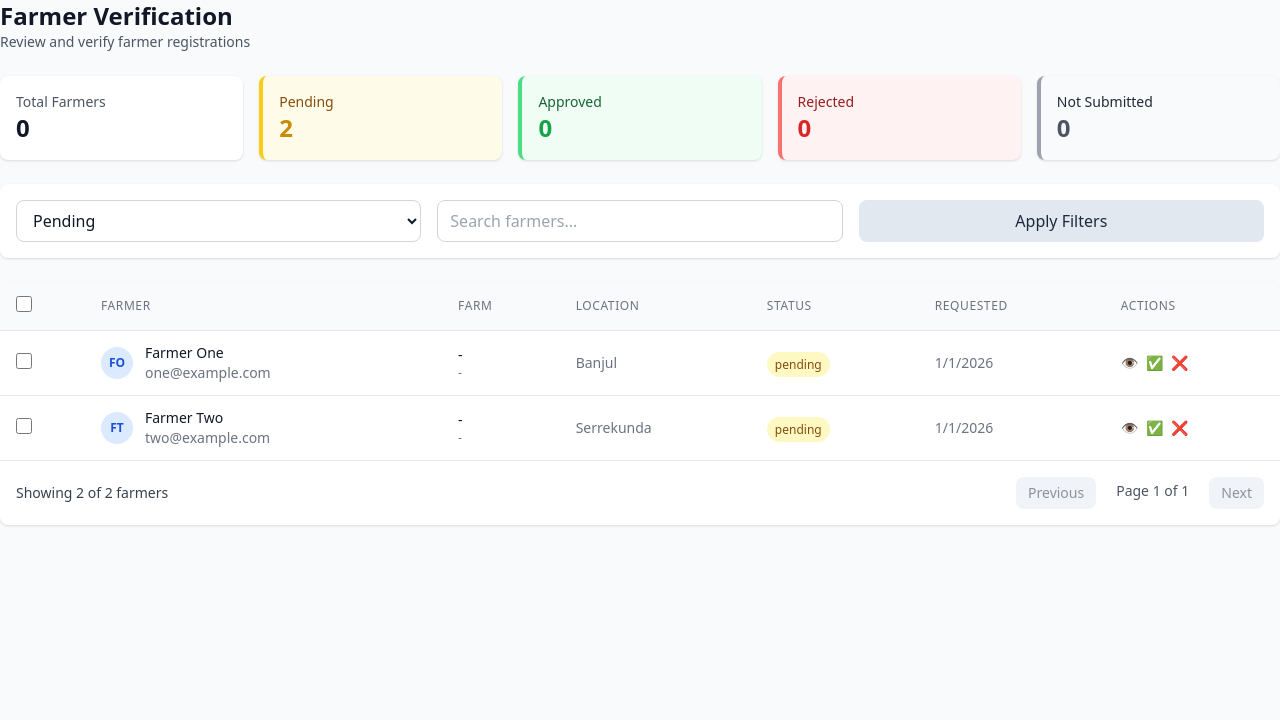
FarmerVerification bulk reject › rejects all selected farmers concurrently and reports full success
Expected: the text "Farmer One" is shown, [145,343,224,362]
Click the checkbox next to "FO" at x=24, y=361, box [16,353,32,369]
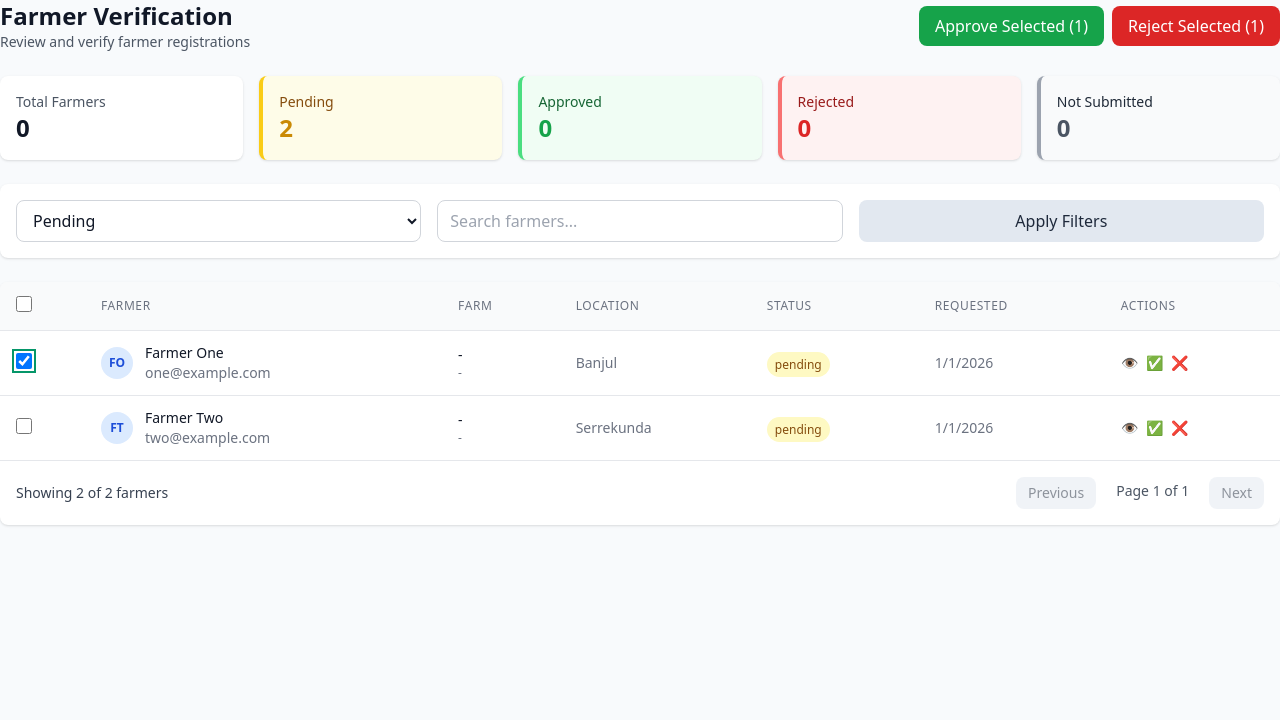
Click the checkbox next to "FT" at x=24, y=426, box [16,418,32,434]
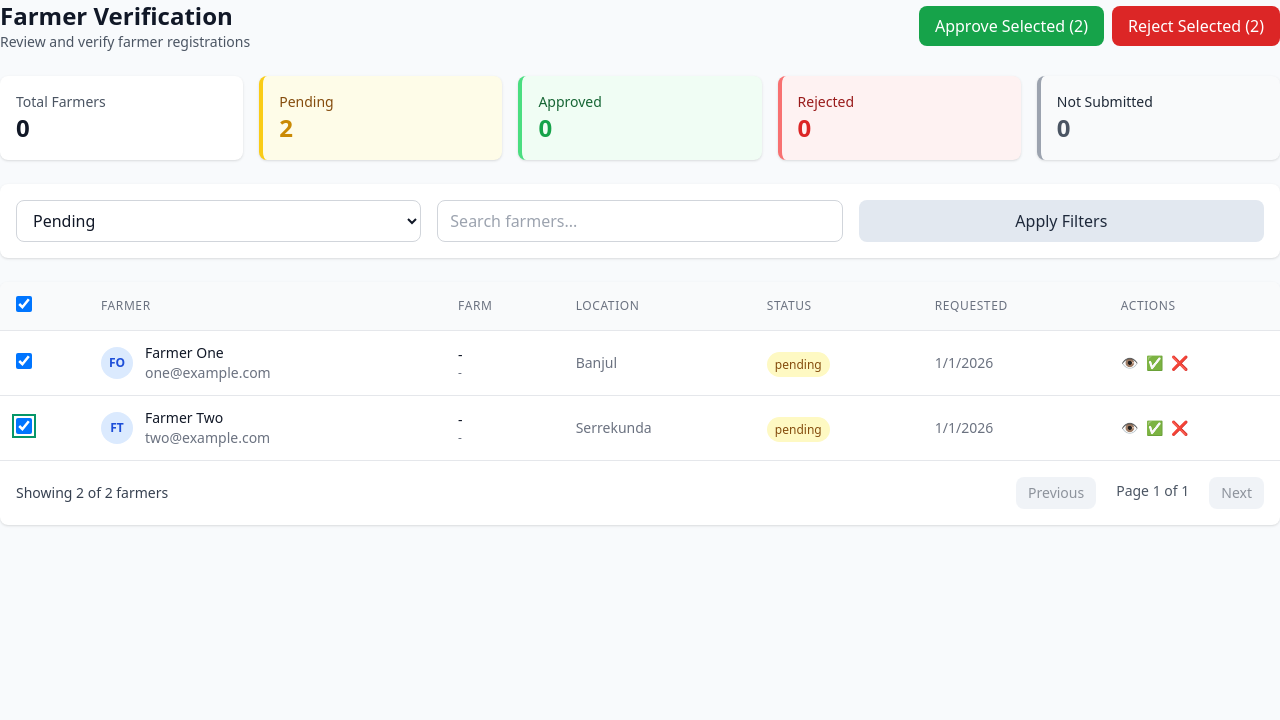
Click the button "Reject Selected (2)" at x=1196, y=26, box [1112,6,1279,46]
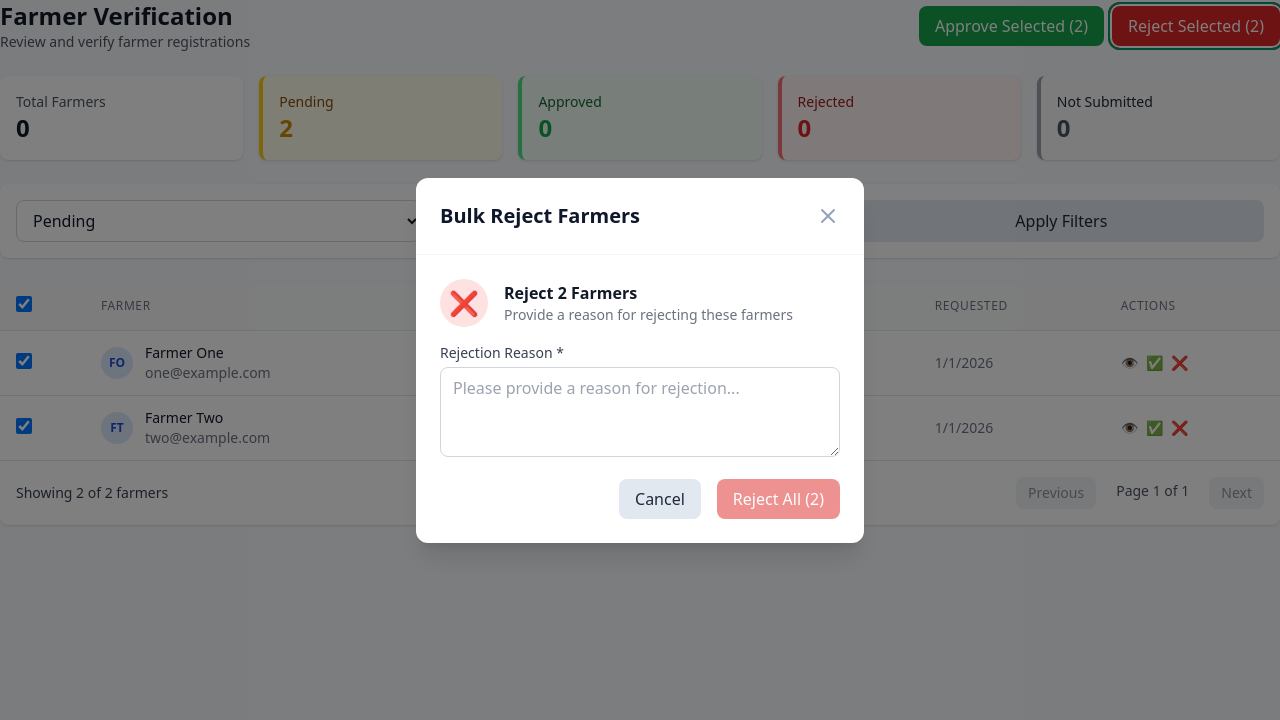
Type "Incomplete documents" into the text box with placeholder "Please provide a reason for rejection..." at x=640, y=412, box [440,366,840,456]
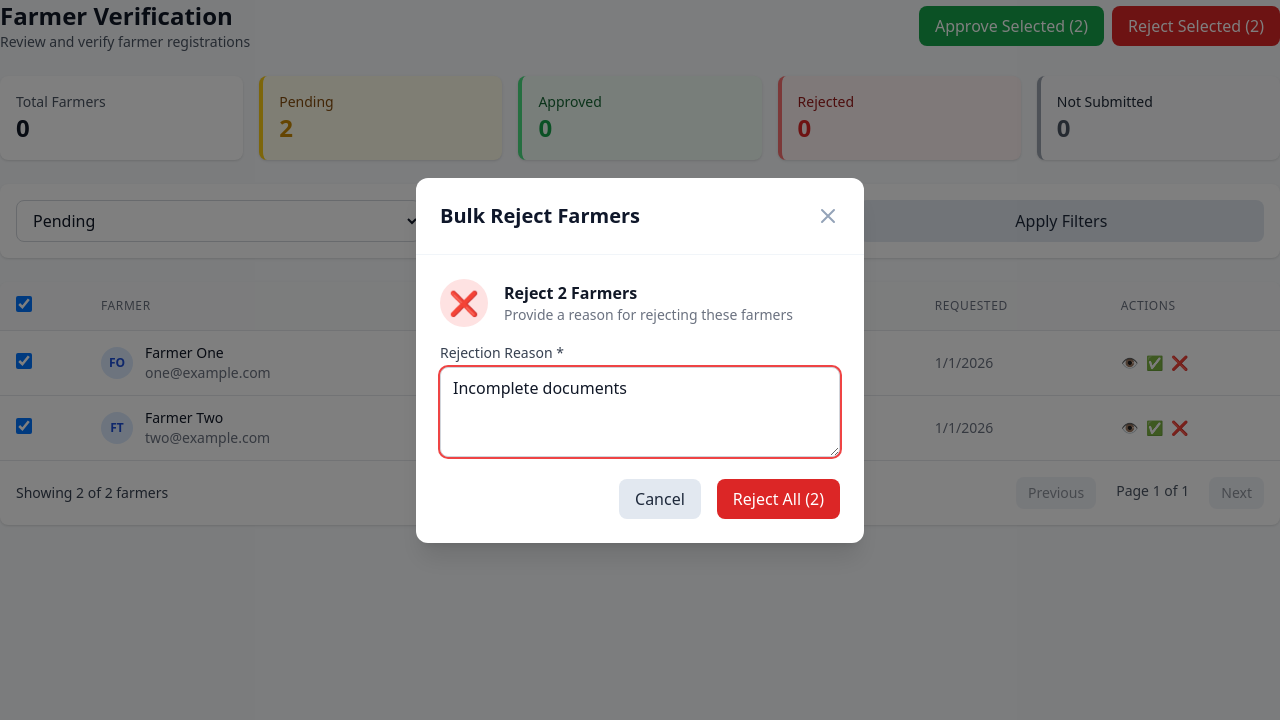
Click the button "Reject All (2)" at x=778, y=498, box [717,478,840,518]
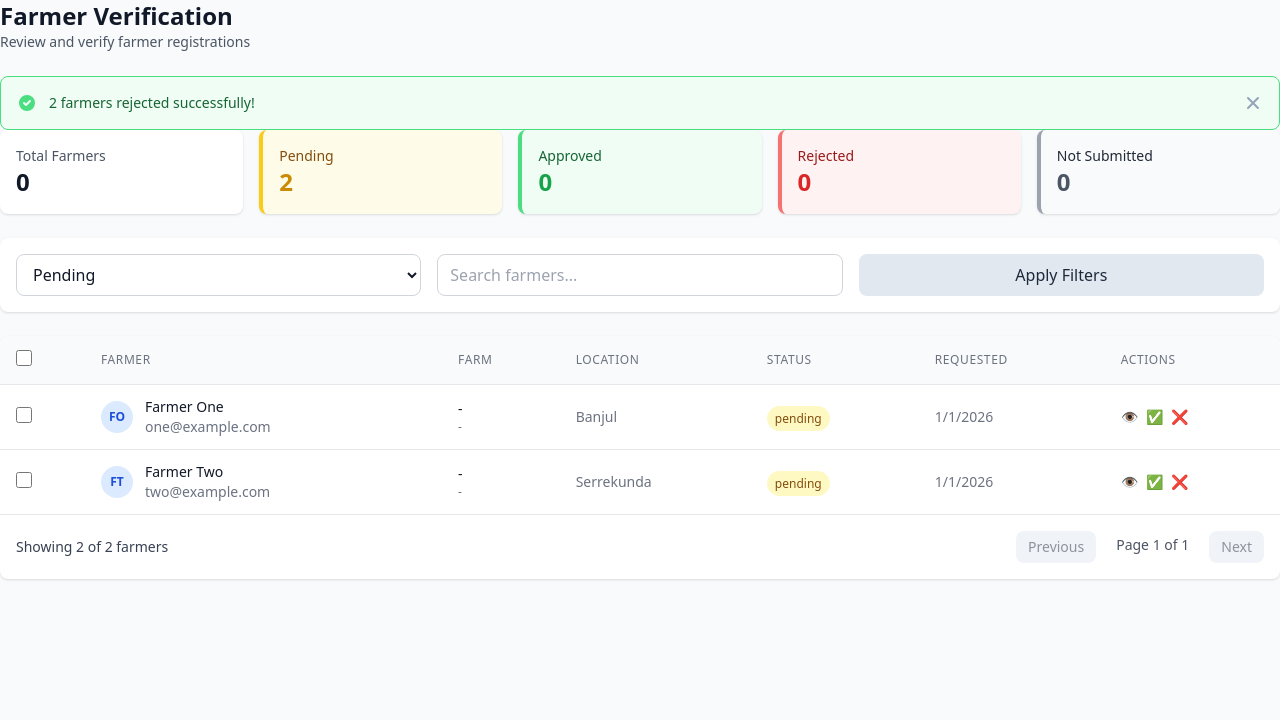
Expected: the text "2 farmers rejected successfully!" is shown, [49,93,255,112]
Expected: the button "Reject Selected" is gone
